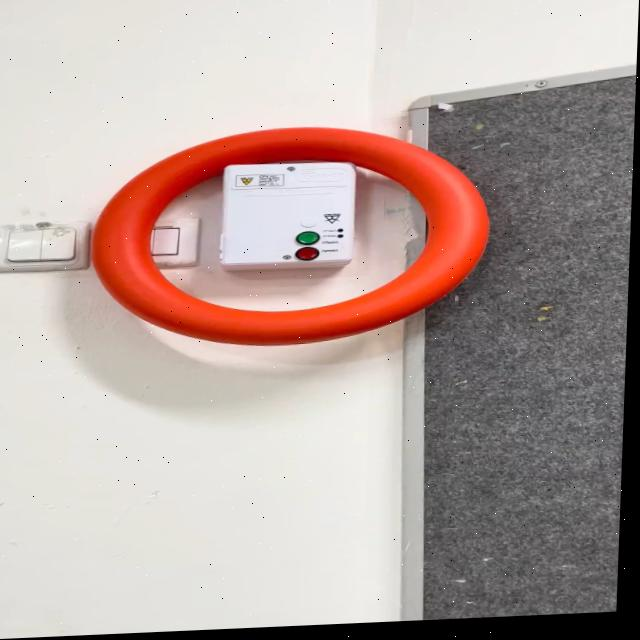note: (87, 121, 497, 358)
